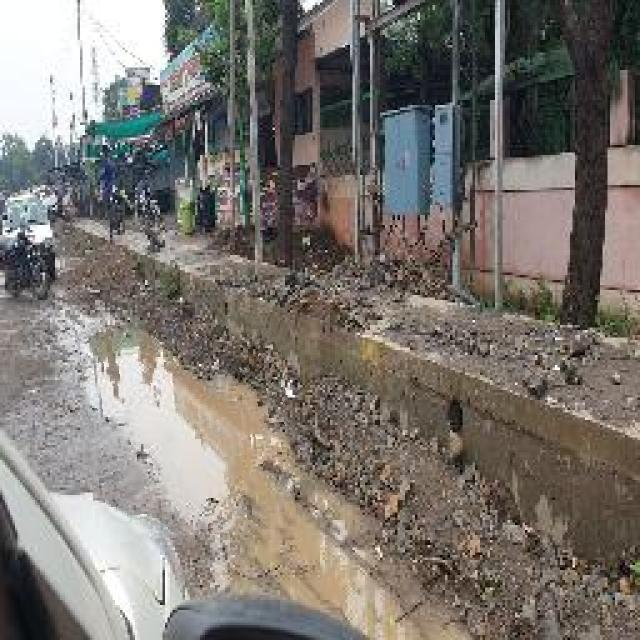puddle: (85, 317, 295, 541)
